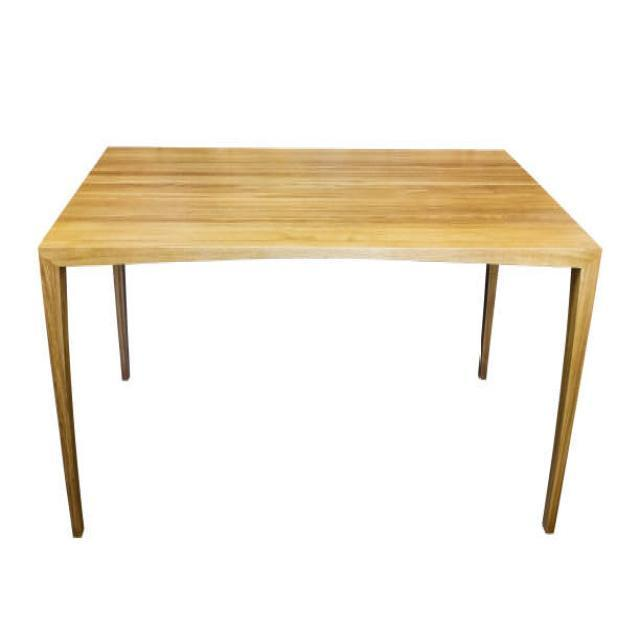table: (36, 142, 602, 540)
